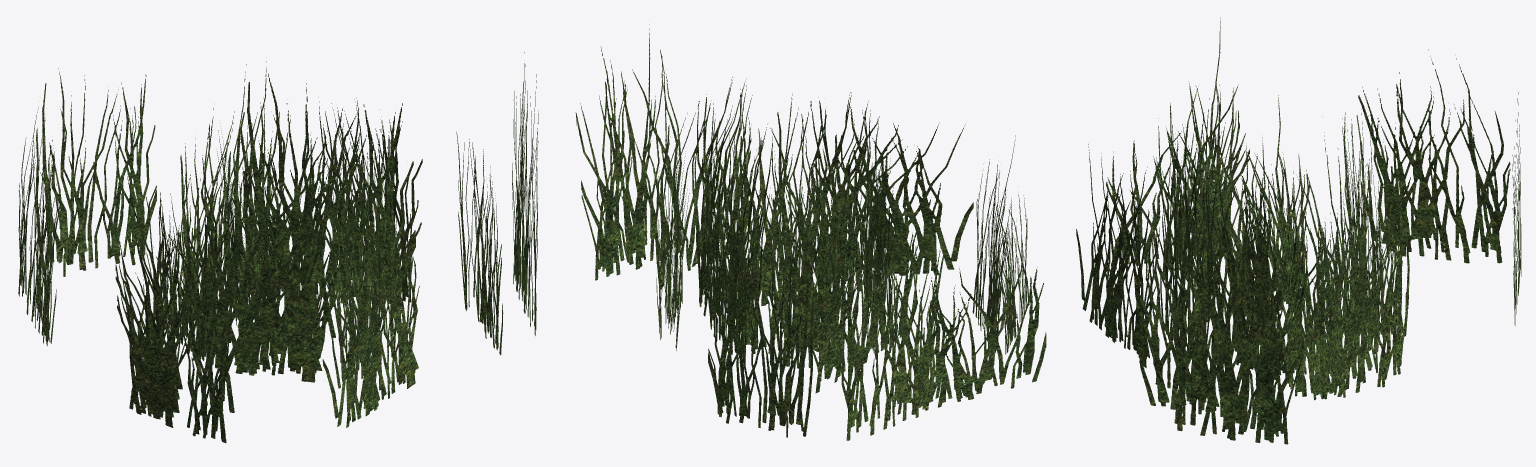
Rendered from grass_3d_05.glb.
3 renders of one model, left to right at view 1: azimuth 30°, elevation 25°; view 2: azimuth 150°, elevation 25°; view 3: azimuth 270°, elevation 25°, orthographic. The views are drawn at different scales.
Visible parts, largest first — view 1: grass_cards; view 2: grass_cards; view 3: grass_cards.
Part boxes in pixels (x1,y1,x2,y2): grass_cards: (18,52,538,442); grass_cards: (575,24,1046,440); grass_cards: (1076,18,1521,444).
Bounding box in the file's own units: 1.16 × 0.608 × 0.947.
1 material, 1 textured.
